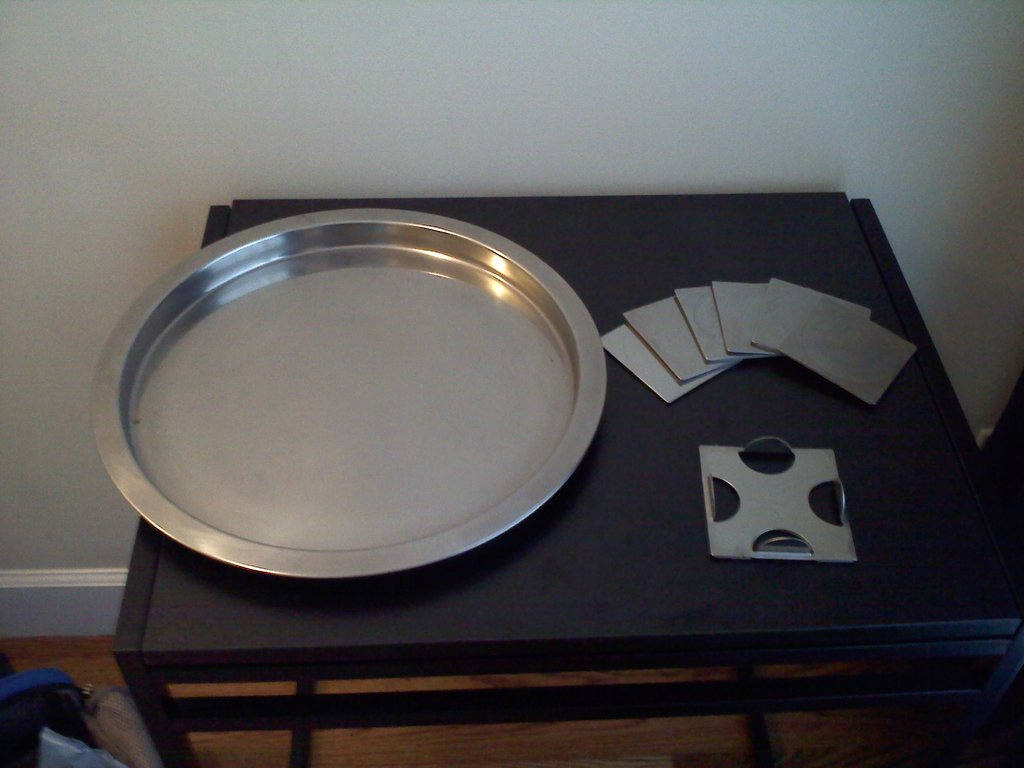plate: (80, 243, 602, 541)
